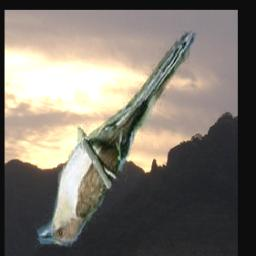Cuckoo: (35, 23, 199, 247)
